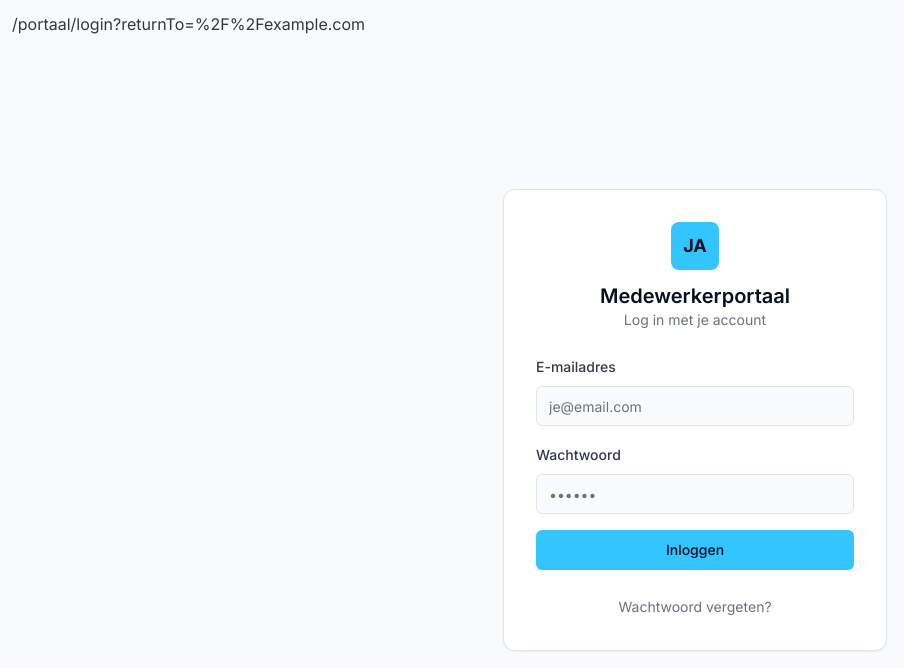
Scenario: portal login return navigation › falls back to the portal dashboard for an external return URL
Type "medewerker@example.test" into the field labelled "E-mailadres".
click(695, 406); type("medewerker@example.test")  # box [536,386,854,426]
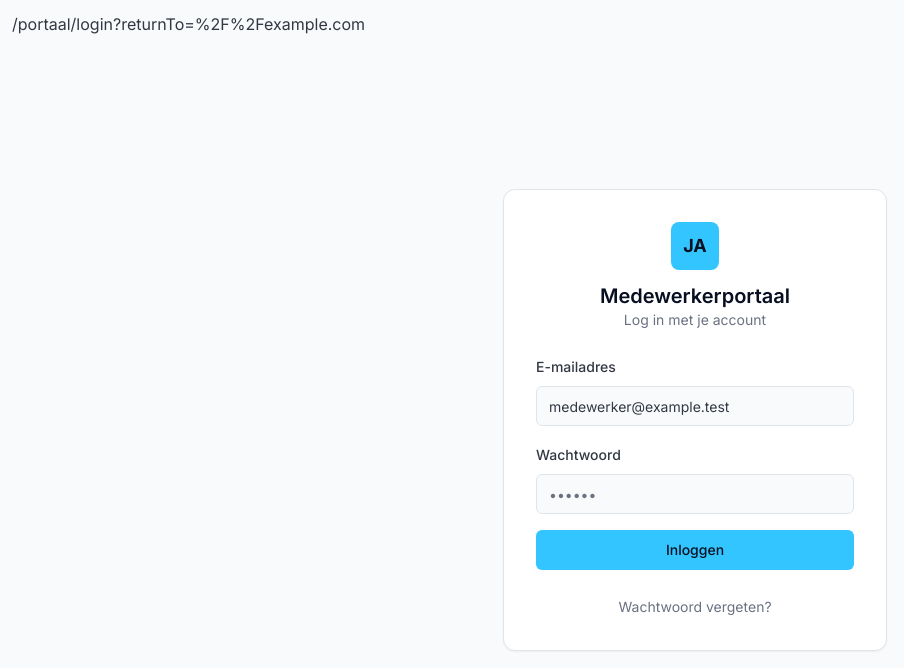
Type "test-password" into the password field labelled "Wachtwoord".
click(695, 494); type("test-password")  # box [536,474,854,514]
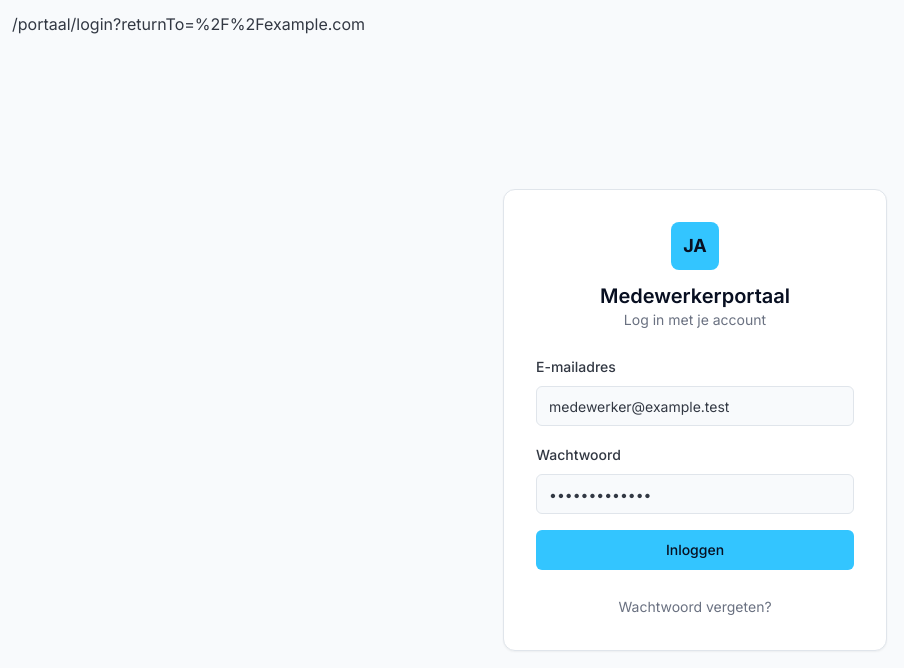
Click the button "Inloggen".
click(695, 550)  # box [536,530,854,570]
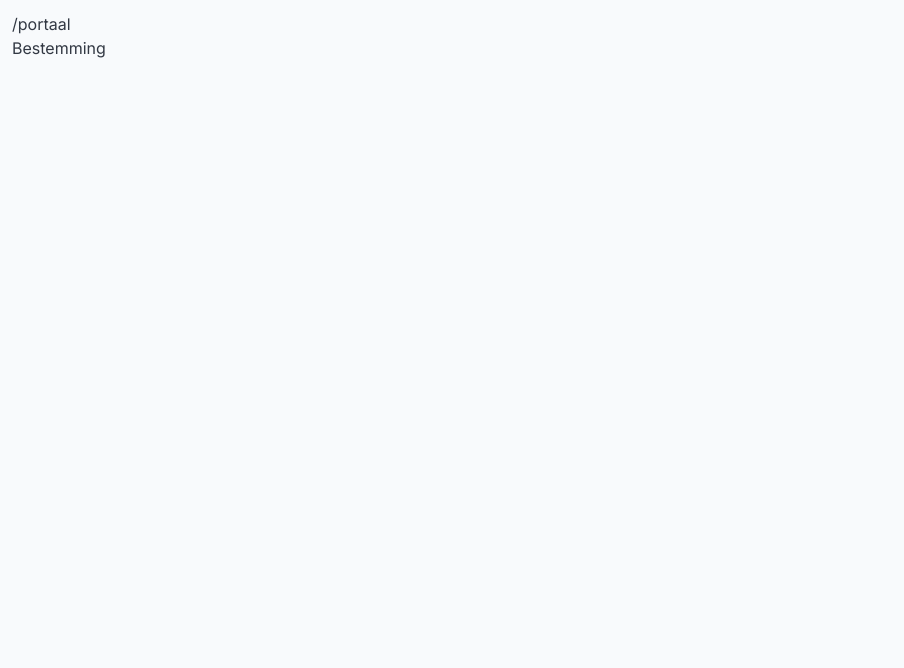
Expected: the text with test id "location" reads "/portaal", [12,14,71,34]
Expected: the text "Bestemming" is shown, [12,38,106,58]
